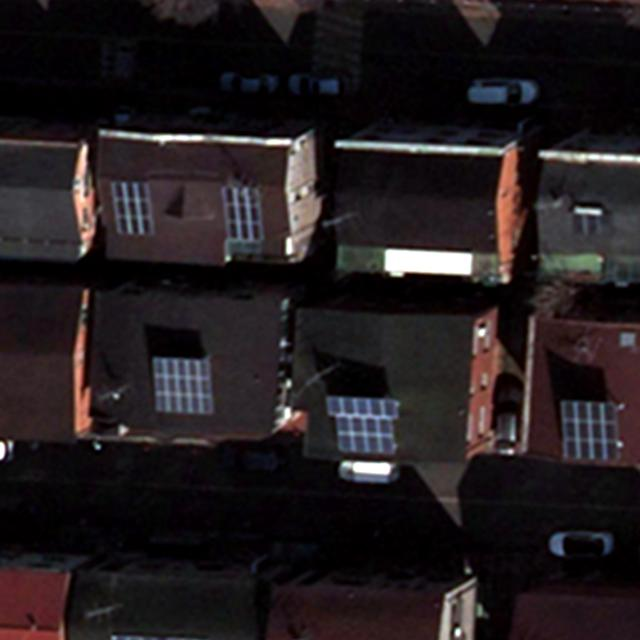panel: (326, 392, 403, 456), (150, 355, 215, 417), (557, 398, 619, 463), (218, 183, 268, 244), (109, 179, 157, 237)
